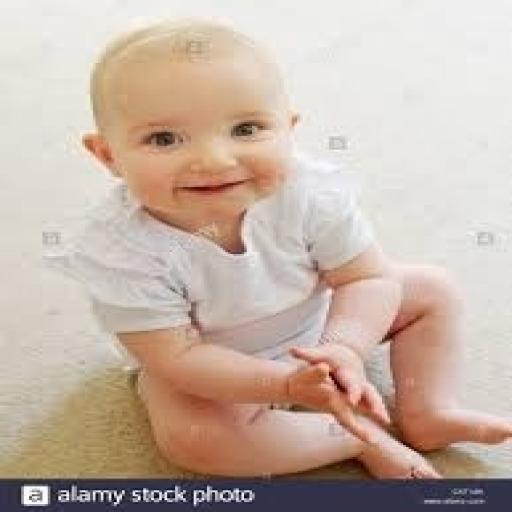clapping: (42, 14, 510, 480)
